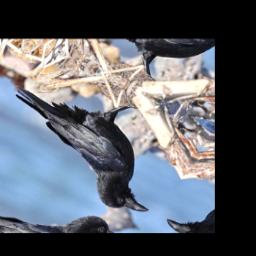Crow: (0, 55, 199, 223)
